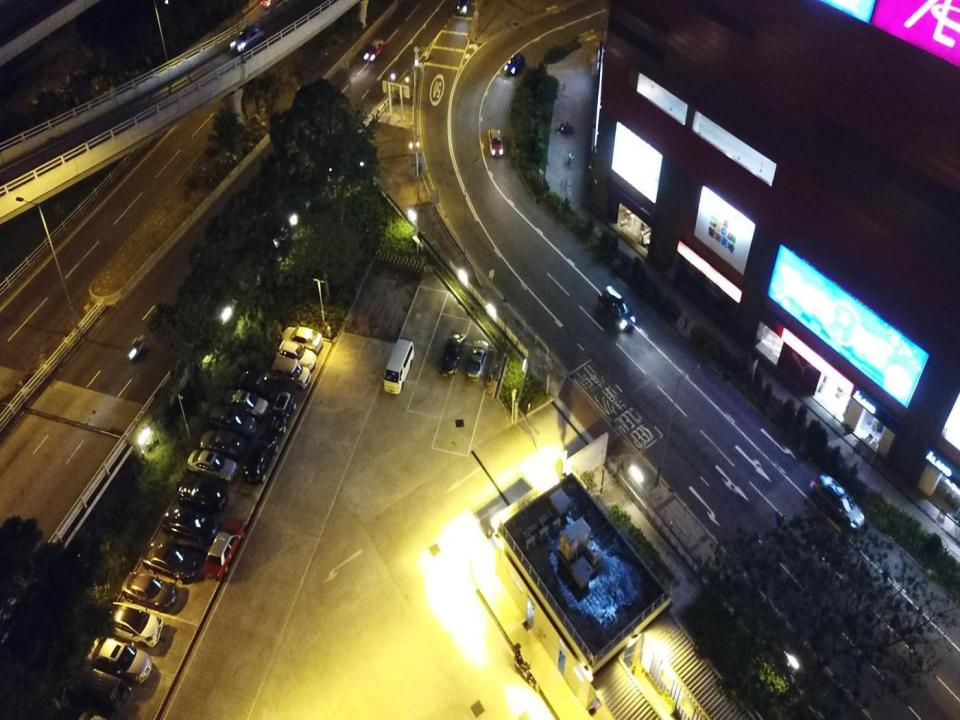car: (811, 473, 866, 534), (66, 667, 131, 714), (87, 638, 152, 684), (201, 515, 245, 581), (141, 541, 197, 583), (121, 570, 177, 612), (106, 604, 162, 646), (162, 507, 216, 546), (243, 430, 278, 483), (177, 477, 227, 512), (187, 449, 237, 483), (598, 284, 634, 330), (200, 428, 244, 460), (275, 340, 317, 370), (269, 358, 311, 388), (438, 331, 466, 376), (266, 391, 296, 432), (236, 369, 278, 398), (225, 388, 267, 417), (281, 326, 323, 353), (230, 24, 264, 53), (466, 340, 489, 381), (363, 38, 386, 62), (504, 52, 525, 75), (489, 128, 504, 156), (456, 0, 470, 15)
van: (382, 338, 414, 396), (208, 405, 256, 437)
